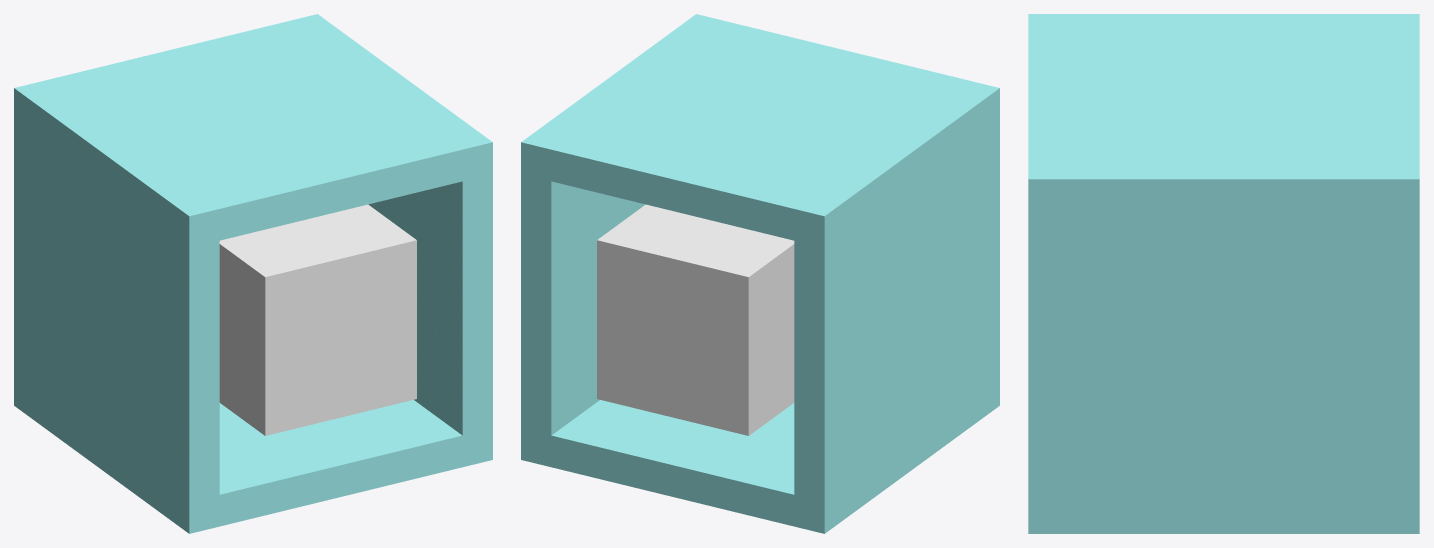
The model's file is Laser.fbx.
3 views of the same model, side by side, from view 1: azimuth 30°, elevation 25°; view 2: azimuth 150°, elevation 25°; view 3: azimuth 270°, elevation 25° (orthographic). The views are drawn at different scales.
Visible parts, largest first — view 1: polySurface4; view 2: polySurface4; view 3: polySurface4.
Boxes of the visible parts, x1=… form: polySurface4: x1=14, y1=14, x2=492, y2=533; polySurface4: x1=521, y1=14, x2=999, y2=533; polySurface4: x1=1028, y1=14, x2=1419, y2=533.
Size of the model in its own units: 1 by 1 by 1.
2 materials, 2 textured.
